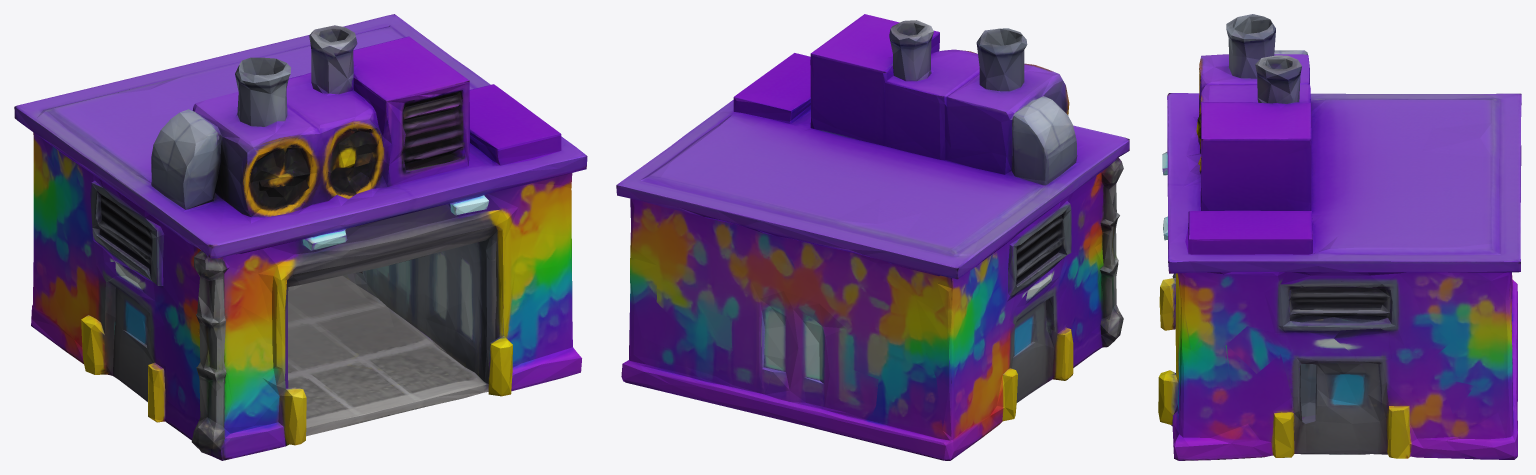
File: spray_booth.glb
3 views of the same model, side by side, from view 1: azimuth 30°, elevation 25°; view 2: azimuth 150°, elevation 25°; view 3: azimuth 270°, elevation 25° (orthographic). The views are drawn at different scales.
Parts seen in each view (by area): view 1: geometry_0; view 2: geometry_0; view 3: geometry_0.
Part boxes in pixels (left/top/right/bottom): geometry_0: left=14, top=14, right=587, bottom=460; geometry_0: left=616, top=14, right=1129, bottom=460; geometry_0: left=1158, top=14, right=1521, bottom=460.
Bounding box in the file's own units: 0.4975 × 0.4328 × 0.4527.
Materials: 1 (1 with a texture image).
